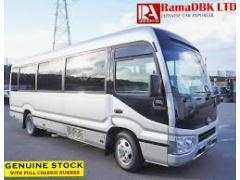bus: (11, 20, 217, 169)
